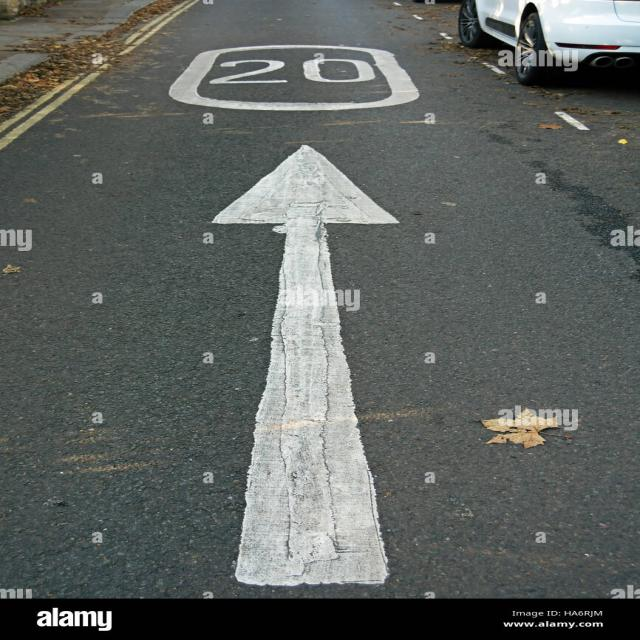road_oneway: (213, 145, 405, 588)
